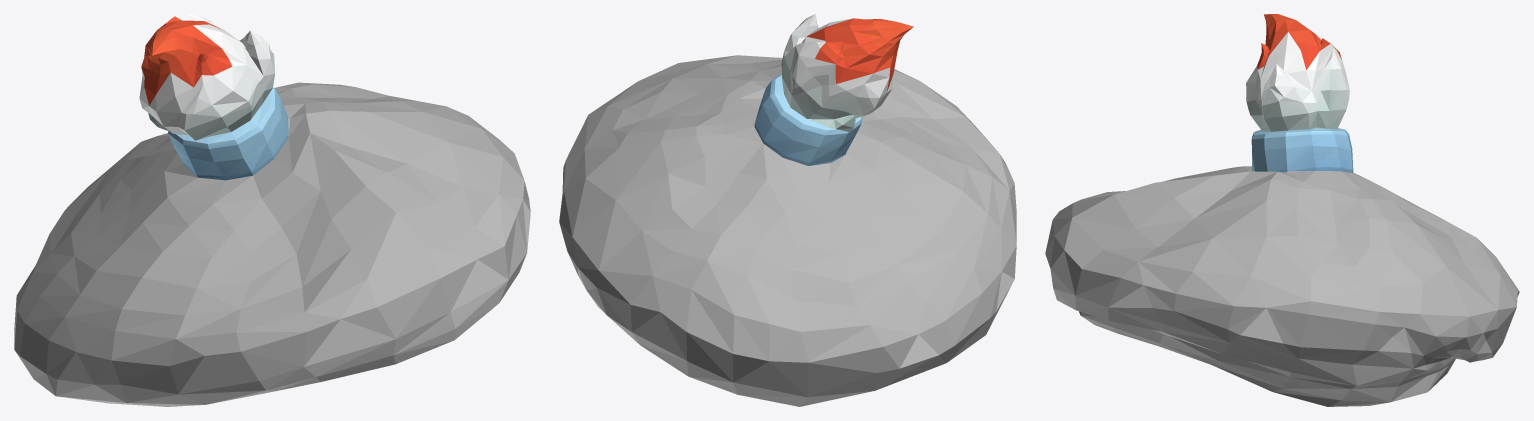
File: CharSkyKid_Hat_ColorBeret.glb
3 views of the same model, side by side, from view 1: azimuth 30°, elevation 25°; view 2: azimuth 150°, elevation 25°; view 3: azimuth 270°, elevation 25° (orthographic). The views are drawn at different scales.
Visible parts, largest first — view 1: CharSkyKid_Hat_ColorBeret; view 2: CharSkyKid_Hat_ColorBeret; view 3: CharSkyKid_Hat_ColorBeret.
Part boxes in pixels (left/top/right/bottom): CharSkyKid_Hat_ColorBeret: left=14, top=14, right=530, bottom=406; CharSkyKid_Hat_ColorBeret: left=559, top=14, right=1016, bottom=406; CharSkyKid_Hat_ColorBeret: left=1045, top=14, right=1519, bottom=406.
Bounding box in the file's own units: 4.29 × 3.43 × 4.55.
1 material, 1 textured.
